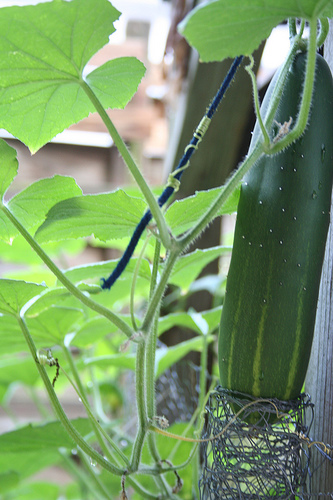cucumber: (216, 50, 331, 425)
